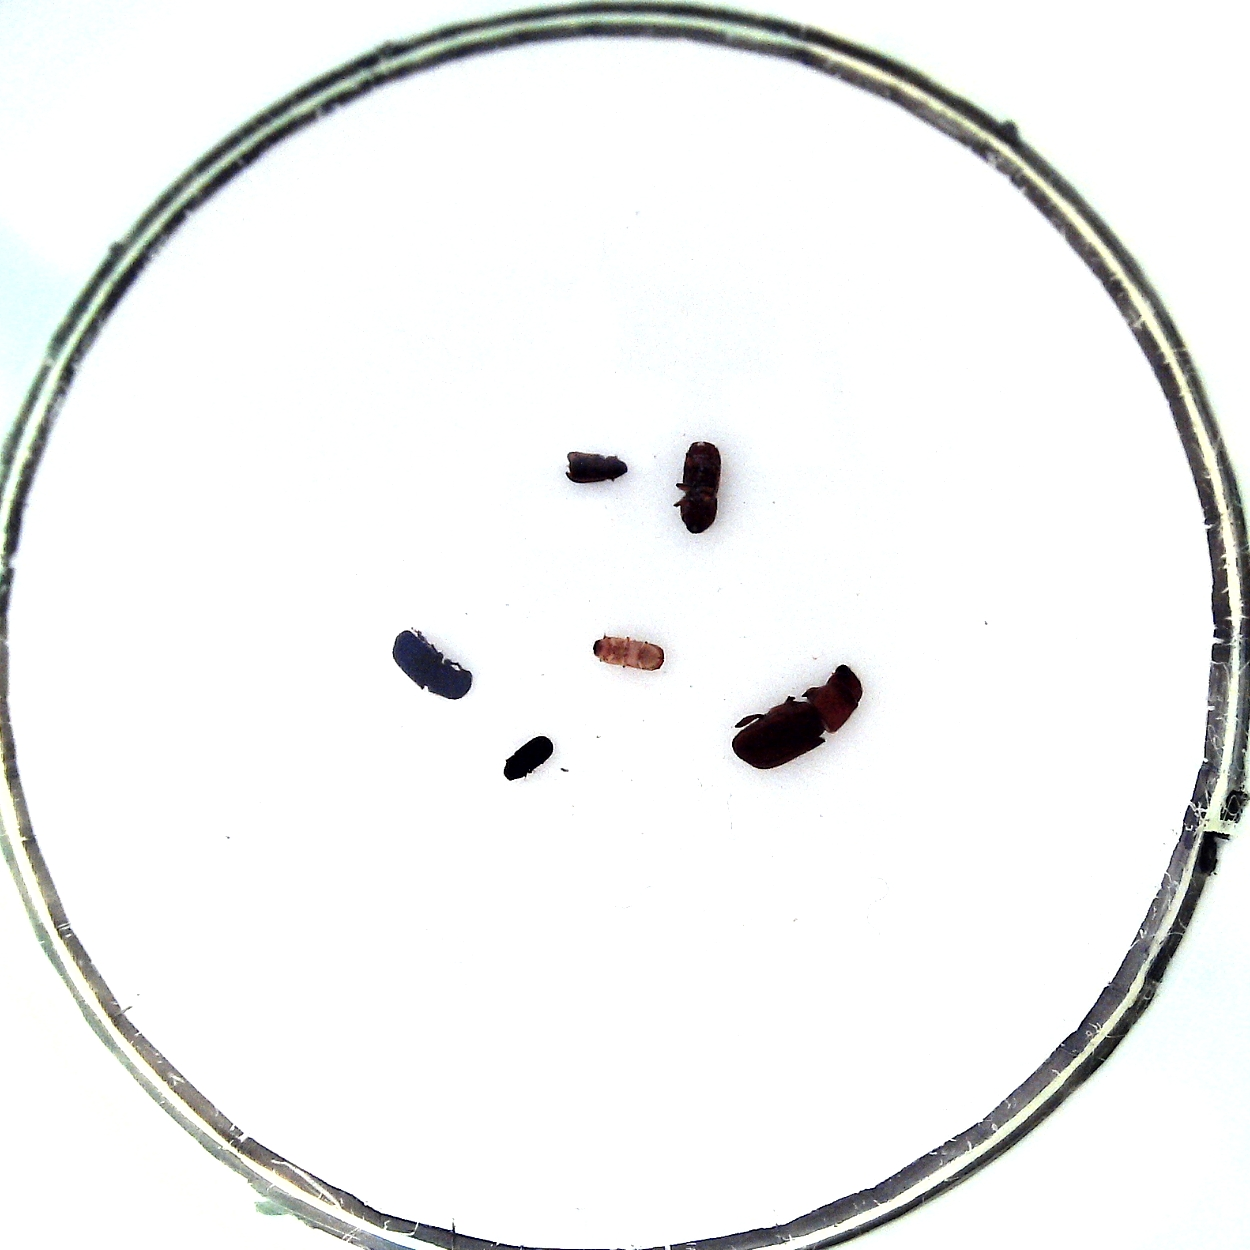Leconte: (731, 665, 863, 768)
acuminatus: (503, 736, 554, 781)
armandi: (393, 628, 472, 699)
coleoptera: (593, 636, 664, 670), (565, 450, 628, 484)
linnaeus: (680, 440, 721, 535)
